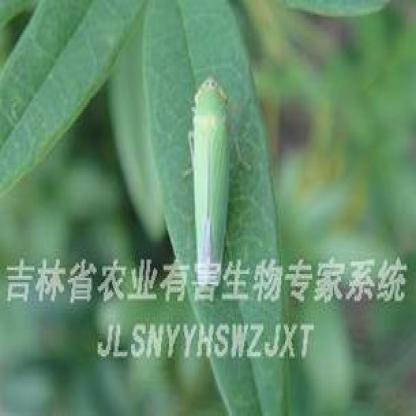Green-Leafhopper: (183, 67, 242, 300)
